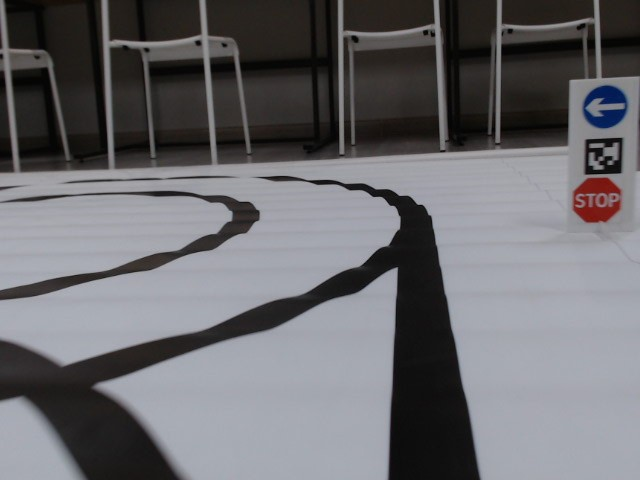Stop: (573, 176, 626, 225)
